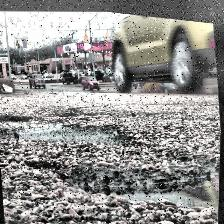pothole: (70, 142, 220, 224)
